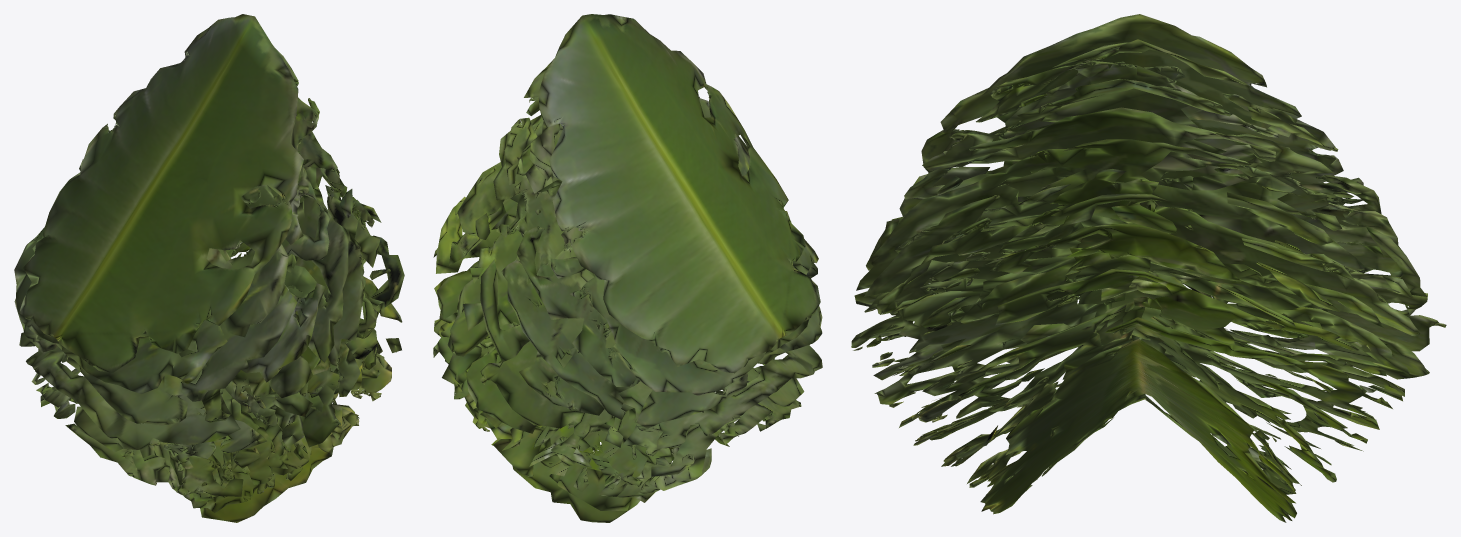
Rendered from AI_PalmFrond.fbx.
The picture shows the model from 3 angles, left to right: view 1: azimuth 30°, elevation 25°; view 2: azimuth 150°, elevation 25°; view 3: azimuth 270°, elevation 25°; orthographic projection. The views are drawn at different scales.
Visible parts, largest first — view 1: Mesh1; view 2: Mesh1; view 3: Mesh1.
Boxes of the visible parts, x1=… form: Mesh1: x1=14, y1=14, x2=404, y2=522; Mesh1: x1=433, y1=14, x2=822, y2=522; Mesh1: x1=851, y1=14, x2=1446, y2=522.
Size of the model in its own units: 130 by 195 by 192.
Materials: 1 (1 with a texture image).
